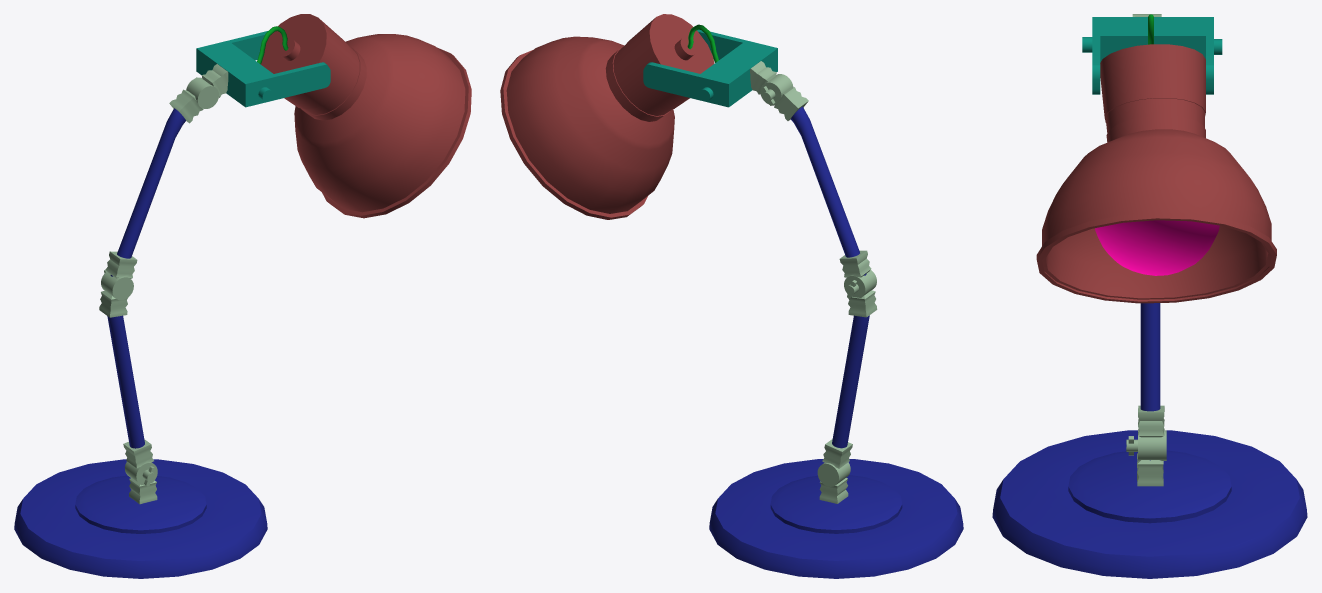
File: DeskLamp.fbx
3 views of the same model, side by side, from view 1: azimuth 30°, elevation 25°; view 2: azimuth 150°, elevation 25°; view 3: azimuth 270°, elevation 25° (orthographic). The views are drawn at different scales.
Visible parts, largest first — view 1: DeskLamp; view 2: DeskLamp; view 3: DeskLamp.
Boxes of the visible parts, x1=… form: DeskLamp: x1=14, y1=14, x2=471, y2=578; DeskLamp: x1=500, y1=14, x2=963, y2=578; DeskLamp: x1=992, y1=14, x2=1307, y2=578.
Size of the model in its own units: 37.95 by 39.75 by 19.62.
